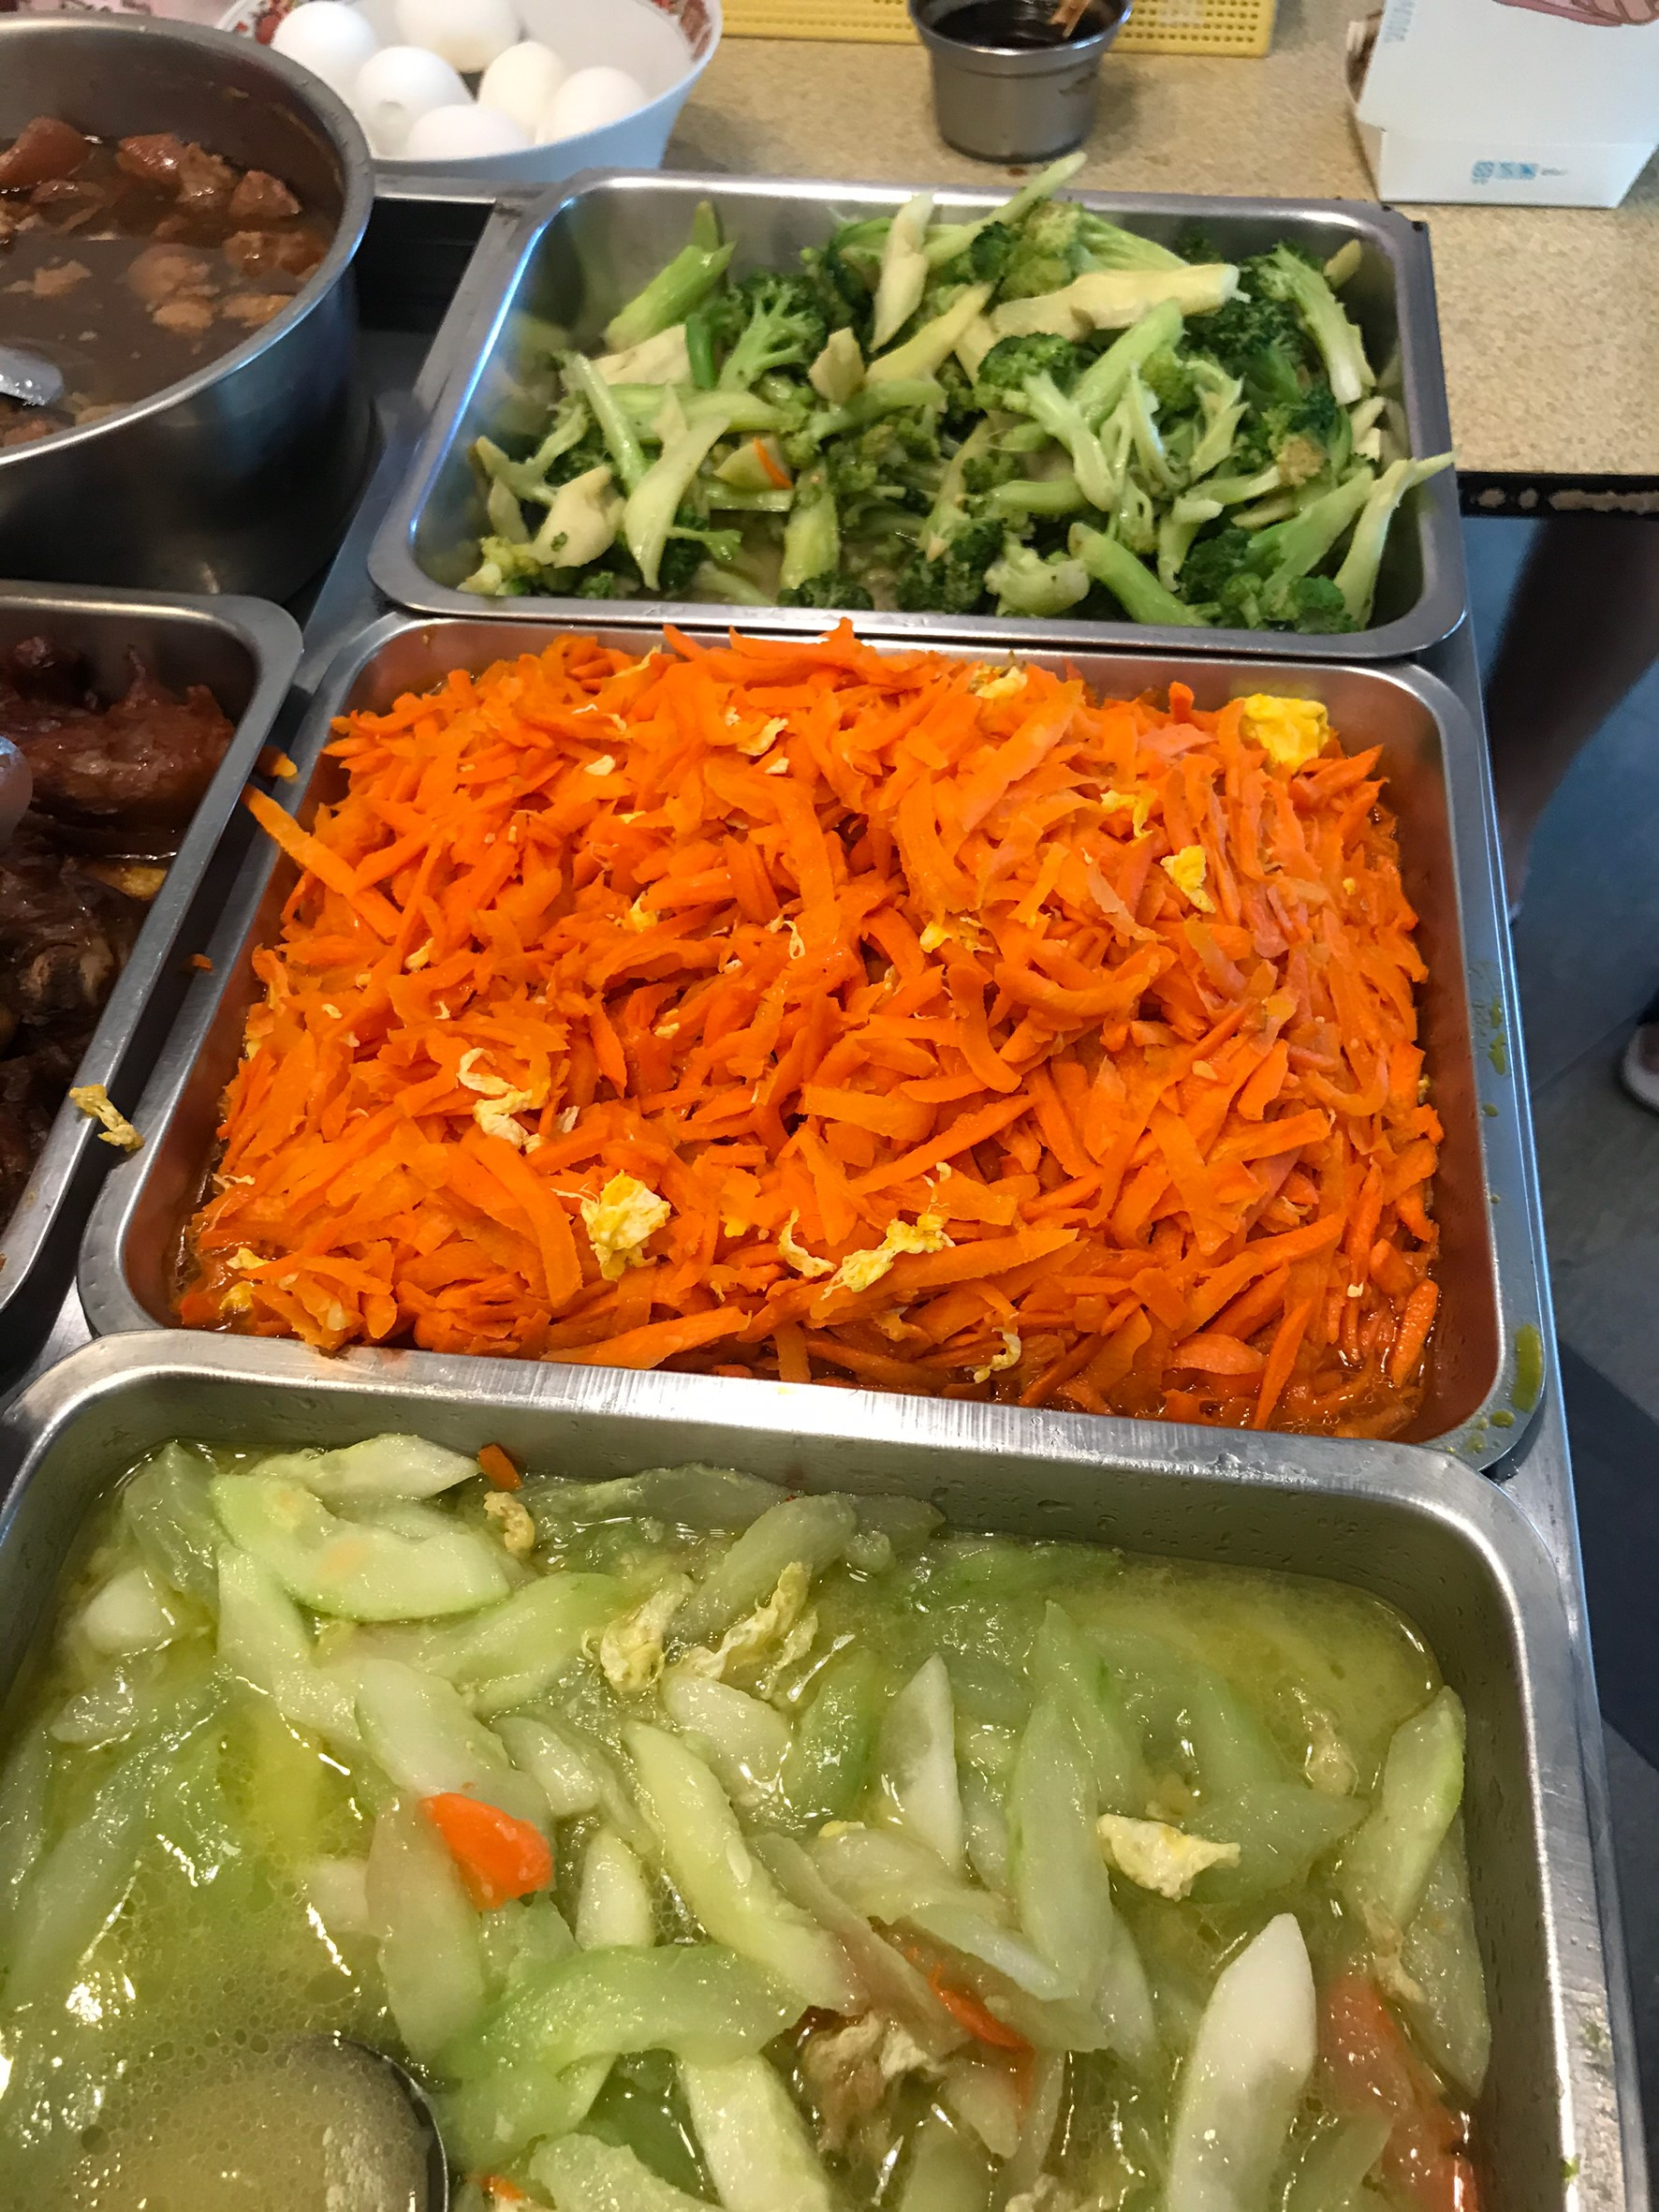carrot_eggs: (355, 689, 1344, 1360)
